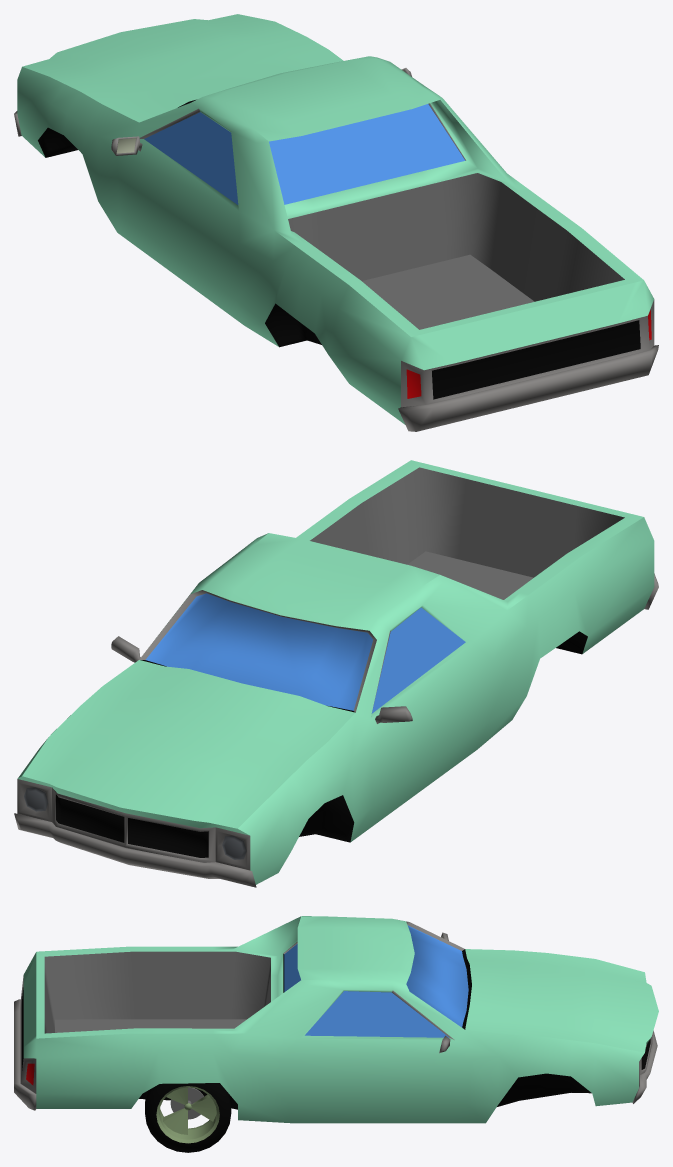
The model's file is utecombine.fbx.
The picture shows the model from 3 angles, top to bottom: view 1: azimuth 30°, elevation 25°; view 2: azimuth 150°, elevation 25°; view 3: azimuth 270°, elevation 25°; orthographic projection. The views are drawn at different scales.
Visible parts, largest first — view 1: ute; view 2: ute; view 3: ute, Wheel.
Boxes of the visible parts, x1,y1,x2,y2 form: ute: [14, 14, 658, 431]; ute: [14, 460, 658, 887]; ute: [14, 916, 658, 1123]; Wheel: [145, 1083, 231, 1152].
Bounding box in the file's own units: 321 × 210 × 781.
